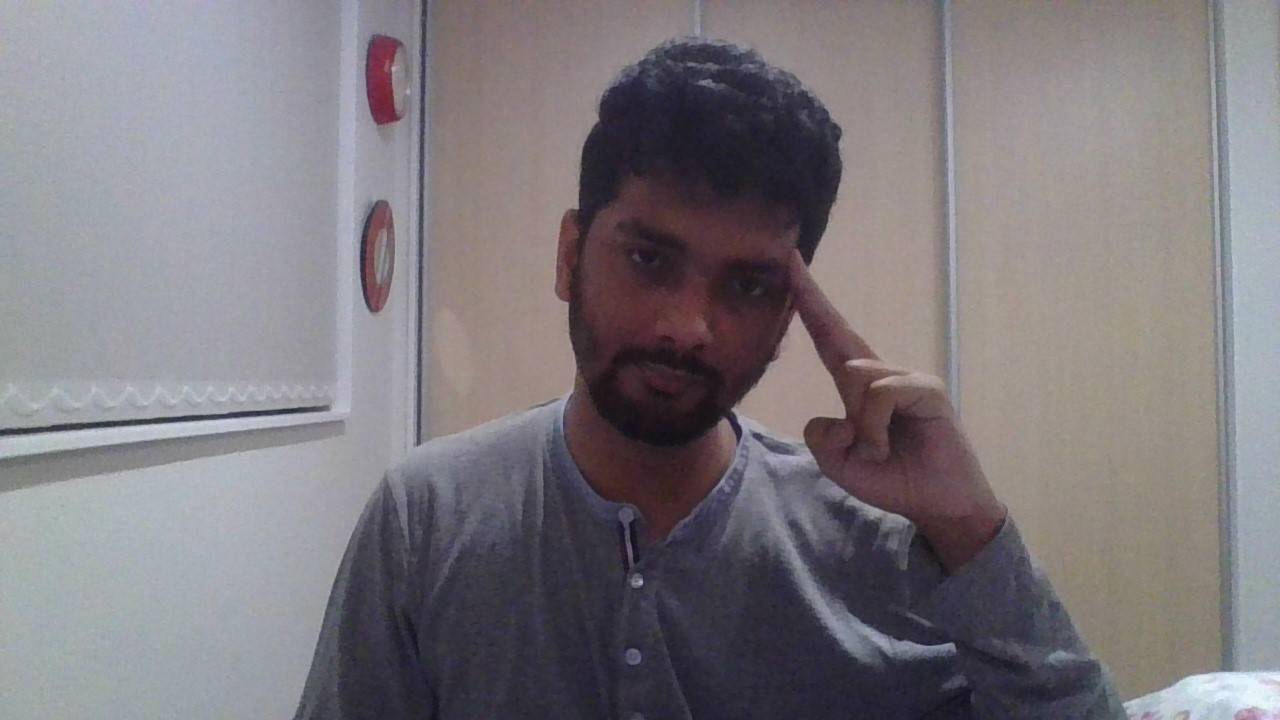peace: (787, 249, 982, 518)
